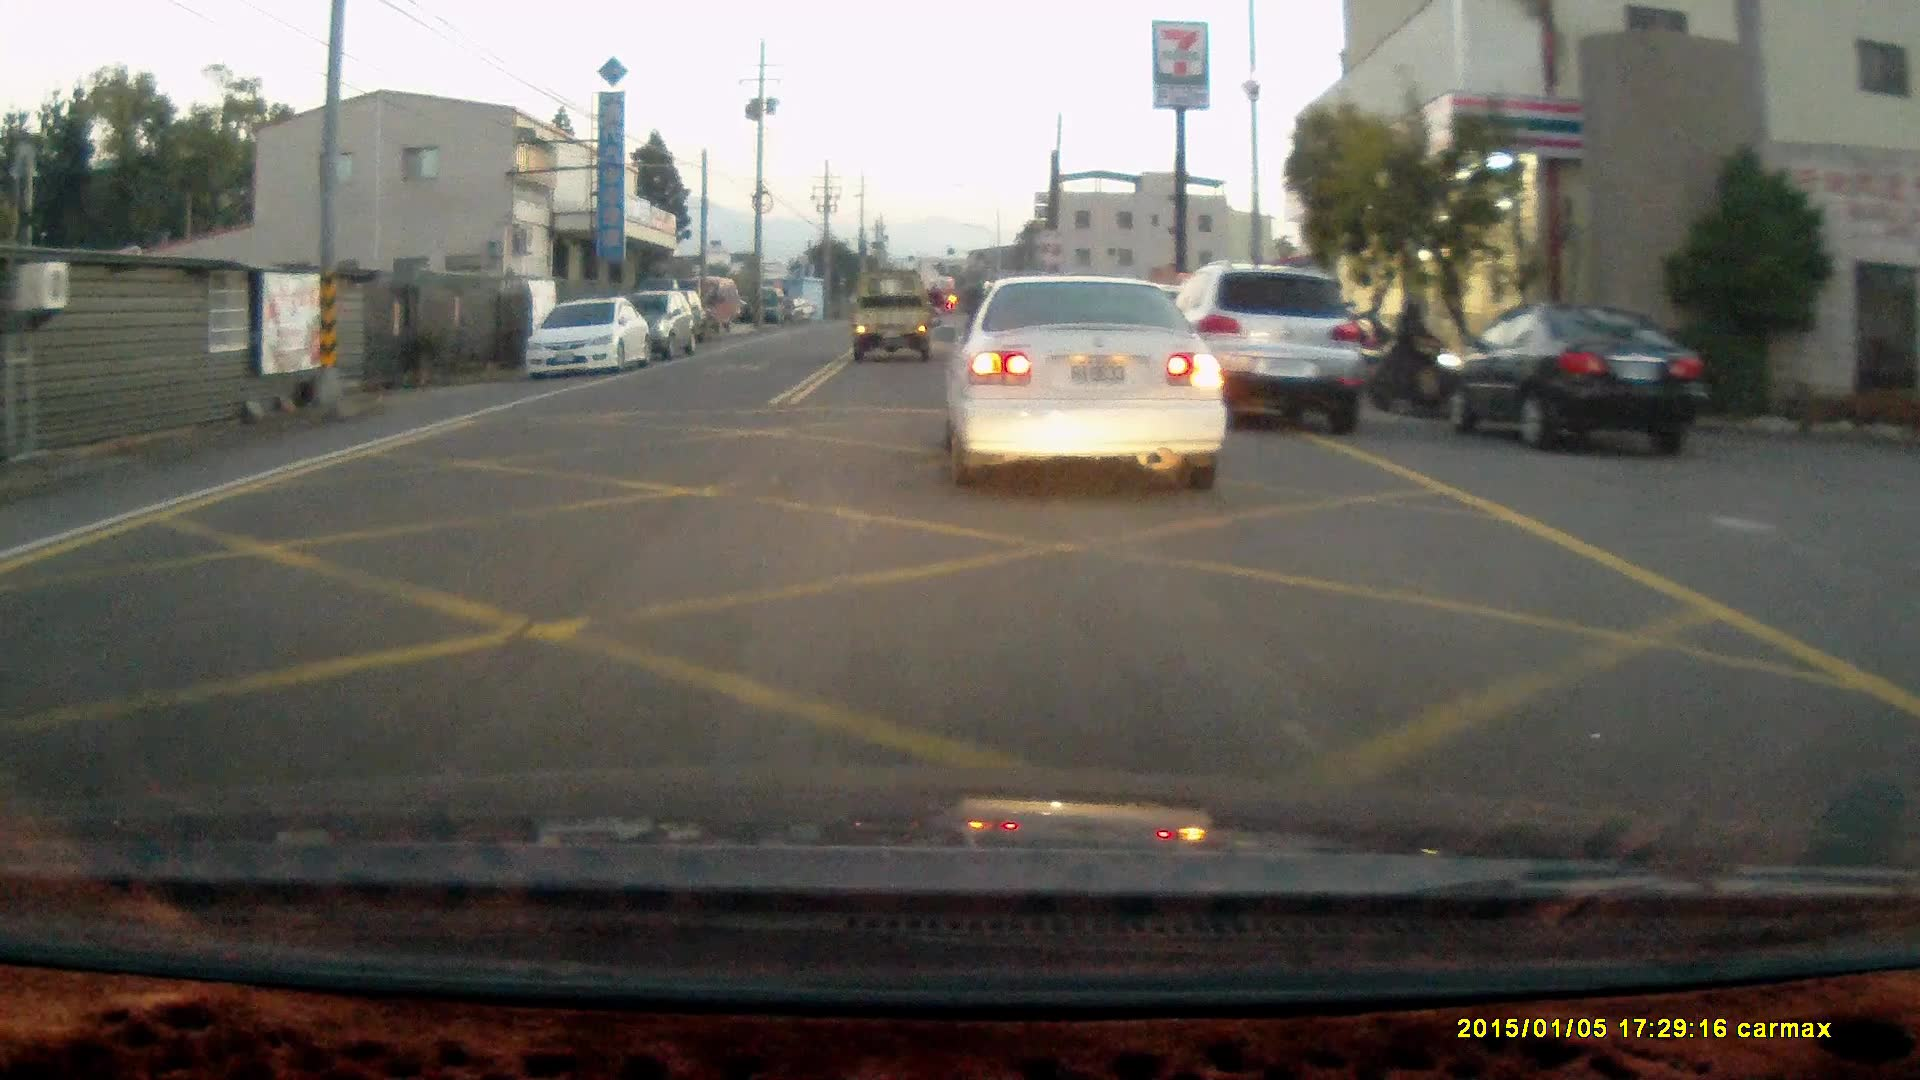rider: (1375, 292, 1470, 418), (921, 279, 947, 327)
vehicle: (945, 275, 1232, 486), (1440, 297, 1707, 450), (1176, 263, 1380, 437), (520, 293, 657, 381), (849, 265, 936, 357), (627, 291, 705, 359)
